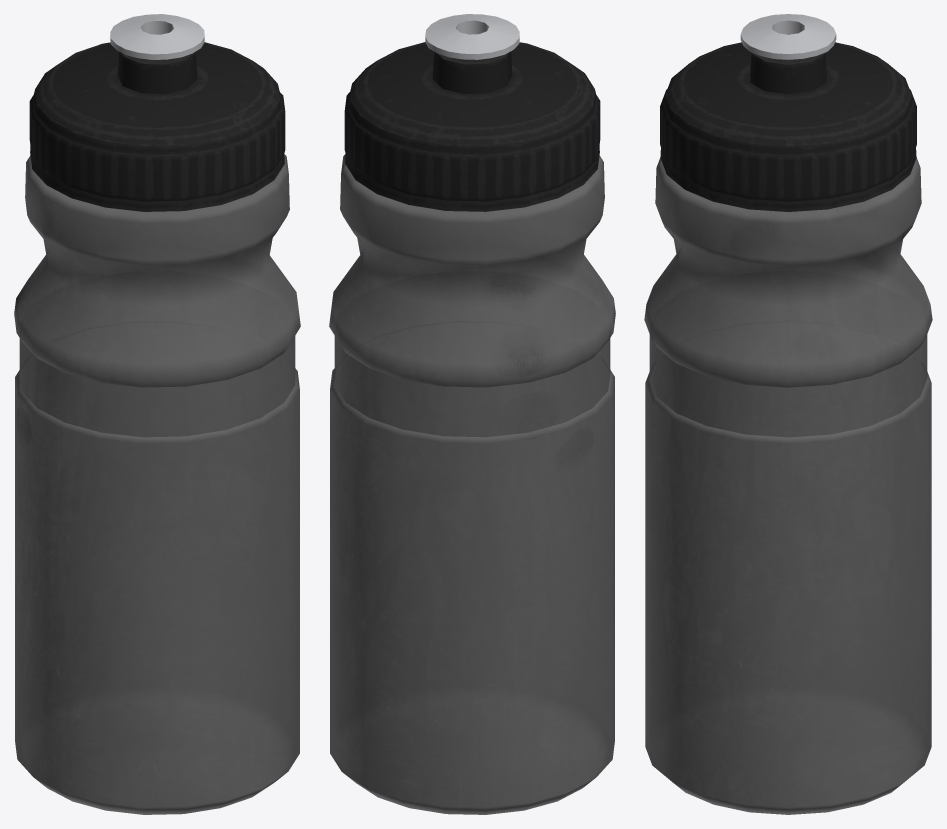
3 renders of one model, left to right at view 1: azimuth 30°, elevation 25°; view 2: azimuth 150°, elevation 25°; view 3: azimuth 270°, elevation 25°, orthographic.
Parts seen in each view (by area): view 1: SM_Body_L, SM_Cap_L, SM_Tip_L; view 2: SM_Body_L, SM_Cap_L, SM_Tip_L; view 3: SM_Body_L, SM_Cap_L, SM_Tip_L.
Part boxes in pixels (bbox=[...]): SM_Body_L: bbox=[14, 154, 300, 814]; SM_Cap_L: bbox=[29, 42, 285, 211]; SM_Tip_L: bbox=[110, 14, 204, 59]; SM_Body_L: bbox=[329, 154, 615, 814]; SM_Cap_L: bbox=[344, 42, 600, 211]; SM_Tip_L: bbox=[425, 14, 519, 59]; SM_Body_L: bbox=[644, 157, 932, 814]; SM_Cap_L: bbox=[660, 42, 916, 211]; SM_Tip_L: bbox=[740, 14, 836, 59].
Size of the model in its own units: 9.17 by 25.77 by 9.17.
Materials: 1 (1 with a texture image).
